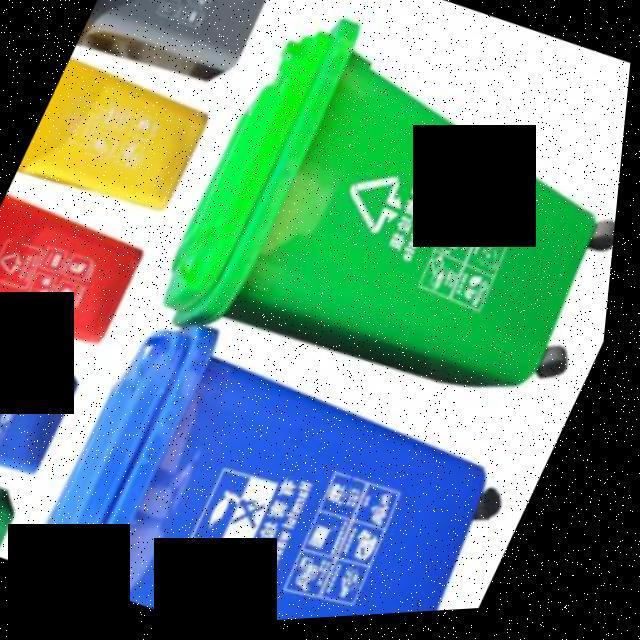bin: (131, 0, 639, 471), (24, 276, 580, 637), (12, 39, 230, 240), (0, 174, 163, 373), (71, 0, 288, 106), (0, 301, 115, 499), (0, 426, 62, 565)
